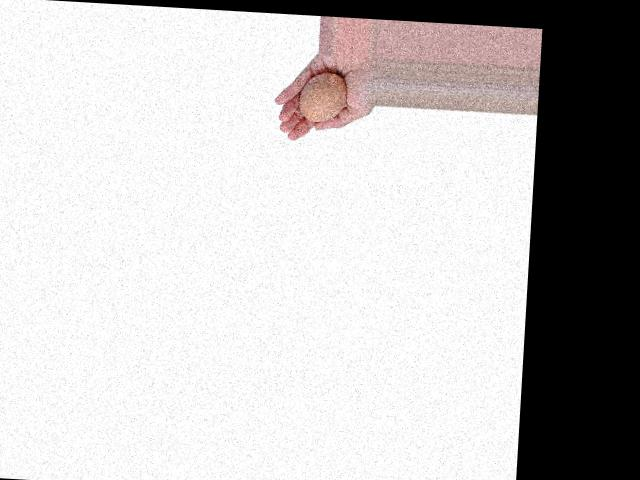egg: (297, 71, 347, 123)
